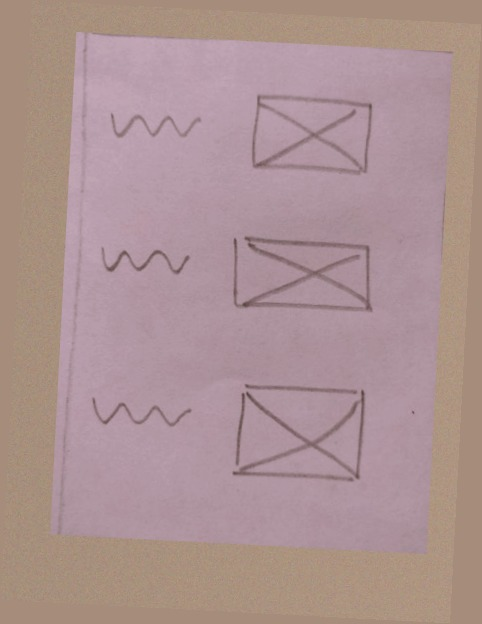image: (225, 377, 373, 491), (224, 225, 383, 324), (243, 83, 379, 184)
text: (83, 382, 198, 436), (102, 95, 206, 153), (94, 226, 198, 284)
